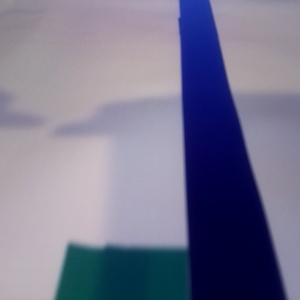top_left: (107, 1, 177, 18)
